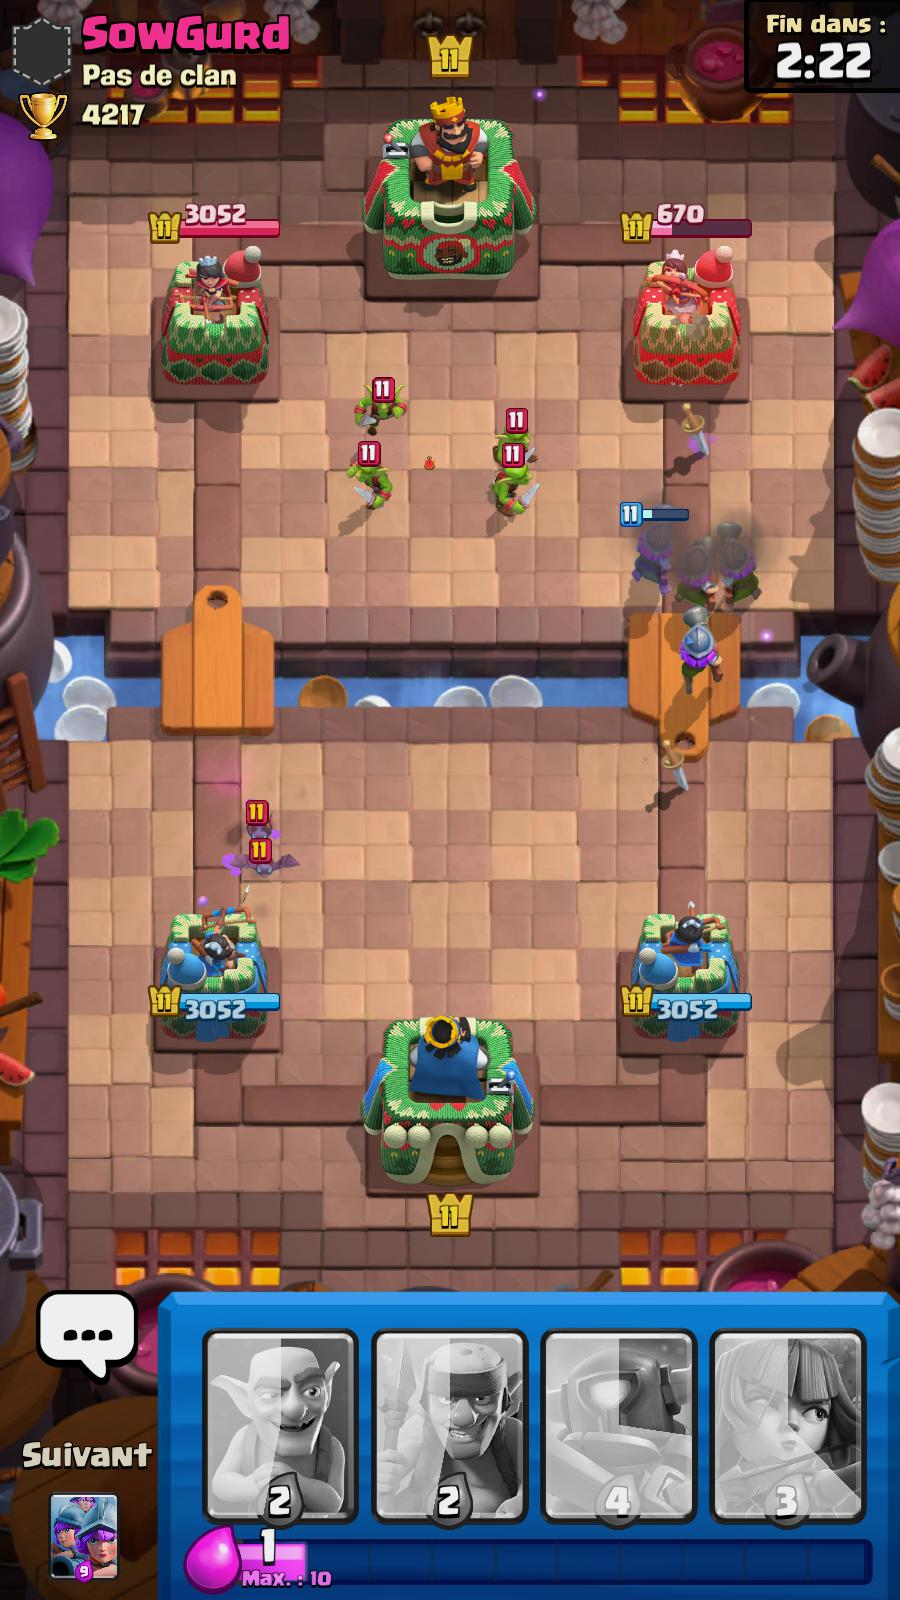bat: (245, 838, 299, 875), (245, 800, 275, 841)
gobelin: (499, 446, 537, 523), (351, 441, 392, 508), (493, 408, 533, 459), (364, 382, 408, 429)
mousquetaire: (619, 504, 682, 584), (712, 521, 768, 605), (675, 598, 724, 692), (675, 531, 722, 612)
